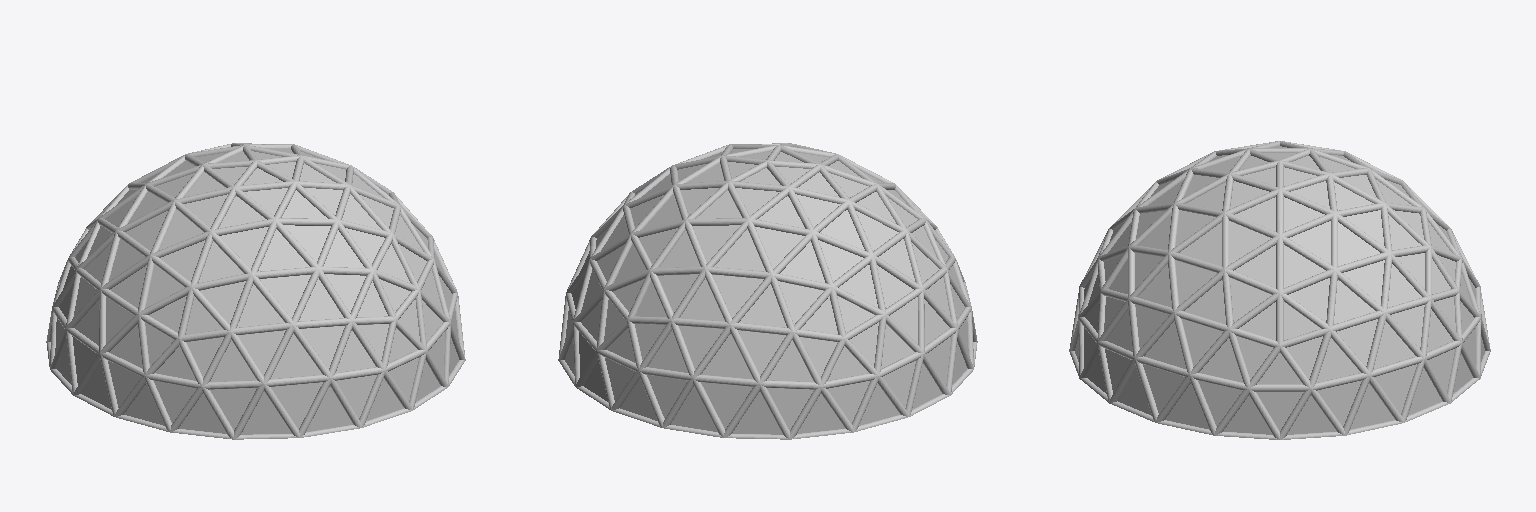
Rendered from Geodome.obj.
3 renders of one model, left to right at view 1: azimuth 30°, elevation 25°; view 2: azimuth 150°, elevation 25°; view 3: azimuth 270°, elevation 25°, orthographic.
Parts seen in each view (by area): view 1: Icosphere; view 2: Icosphere; view 3: Icosphere.
Part boxes in pixels (bbox=[...]): Icosphere: bbox=[46, 143, 465, 439]; Icosphere: bbox=[558, 143, 977, 439]; Icosphere: bbox=[1069, 141, 1490, 439].
Bounding box in the file's own units: 10.65 × 5.33 × 10.65.